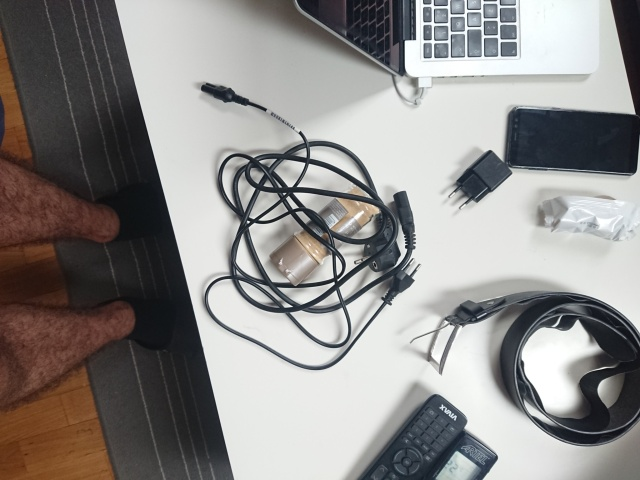Kotanyi Garlic Granules 70g: (267, 181, 386, 289)
